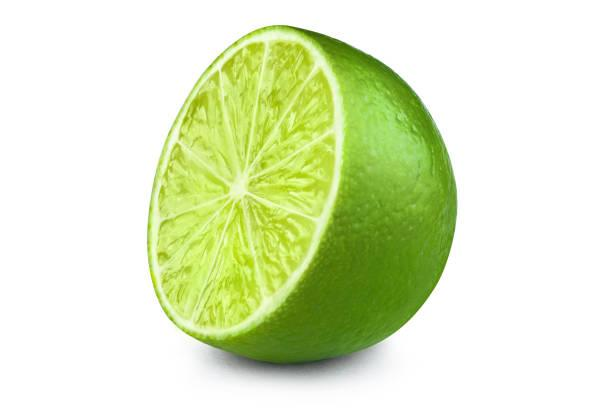lime: (143, 25, 464, 366)
